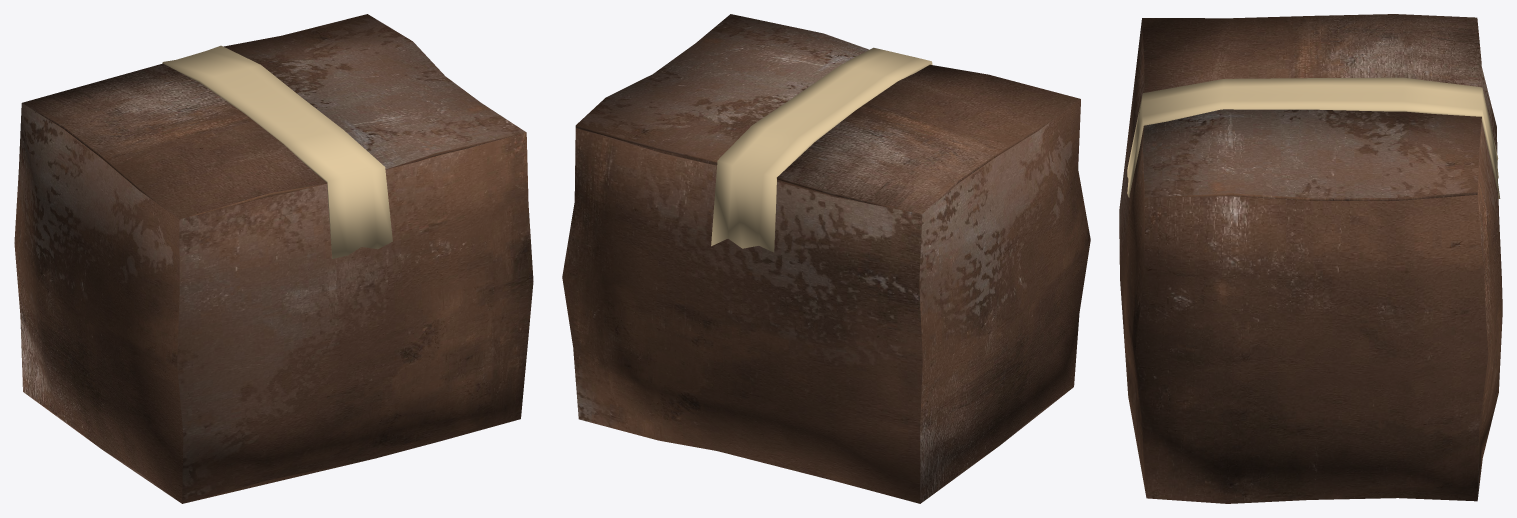
The model's file is Dark_Box.fbx.
3 views of the same model, side by side, from view 1: azimuth 30°, elevation 25°; view 2: azimuth 150°, elevation 25°; view 3: azimuth 270°, elevation 25° (orthographic). The views are drawn at different scales.
Parts seen in each view (by area): view 1: Dark_Box; view 2: Dark_Box; view 3: Dark_Box.
Boxes of the visible parts, <box> form: Dark_Box: <box>14,14,533,503</box>; Dark_Box: <box>562,14,1090,503</box>; Dark_Box: <box>1119,14,1502,503</box>.
Bounding box in the file's own units: 74.47 × 55.08 × 59.52.
2 materials, 1 textured.
